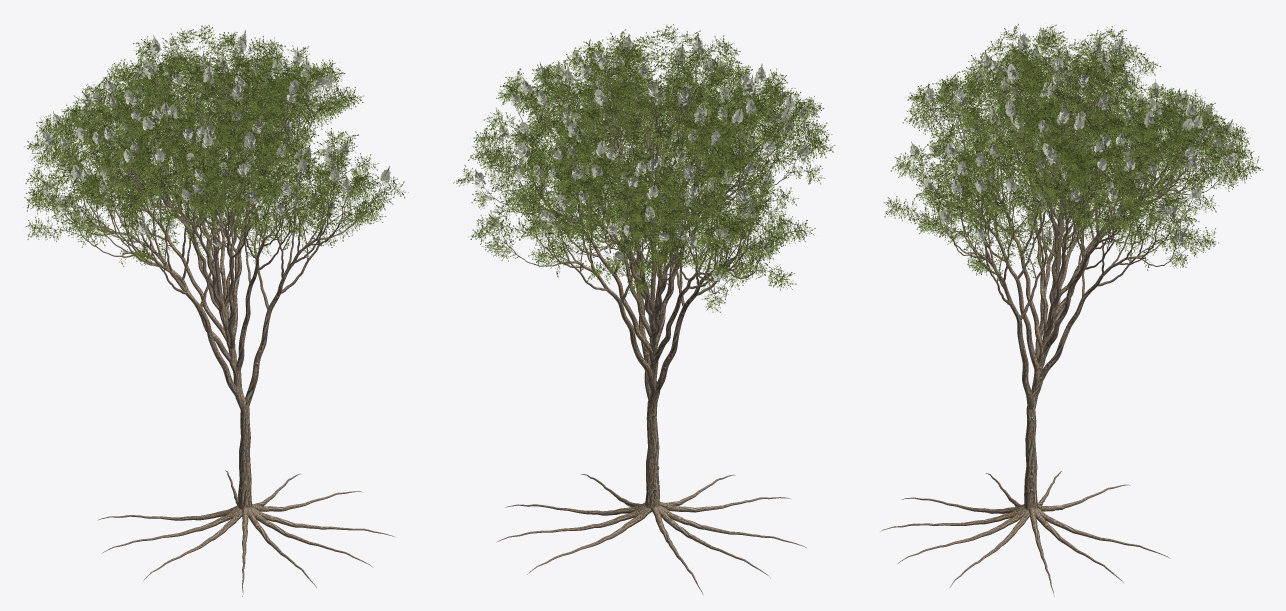
File: MESH_OC56_MelaleucaAlternifolia_A_LOD0.fbx
3 renders of one model, left to right at view 1: azimuth 30°, elevation 25°; view 2: azimuth 150°, elevation 25°; view 3: azimuth 270°, elevation 25°, orthographic. The views are drawn at different scales.
Visible parts, largest first — view 1: MI_LOD0_001, MI_LOD0, MI_LOD0_003; view 2: MI_LOD0_001, MI_LOD0, MI_LOD0_003, MI_LOD0_002; view 3: MI_LOD0_001, MI_LOD0, MI_LOD0_003, MI_LOD0_002.
Part boxes in pixels (box(x1,y1,x2,y2)): MI_LOD0_001: box(24, 24, 408, 269); MI_LOD0: box(35, 41, 396, 596); MI_LOD0_003: box(40, 33, 389, 246); MI_LOD0_001: box(453, 24, 835, 312); MI_LOD0: box(468, 34, 819, 594); MI_LOD0_003: box(474, 36, 809, 281); MI_LOD0_002: box(475, 33, 809, 272); MI_LOD0_001: box(884, 23, 1263, 281); MI_LOD0: box(880, 34, 1252, 596); MI_LOD0_003: box(909, 30, 1238, 245); MI_LOD0_002: box(911, 27, 1240, 236).
Bounding box in the file's own units: 582 × 839 × 613.
